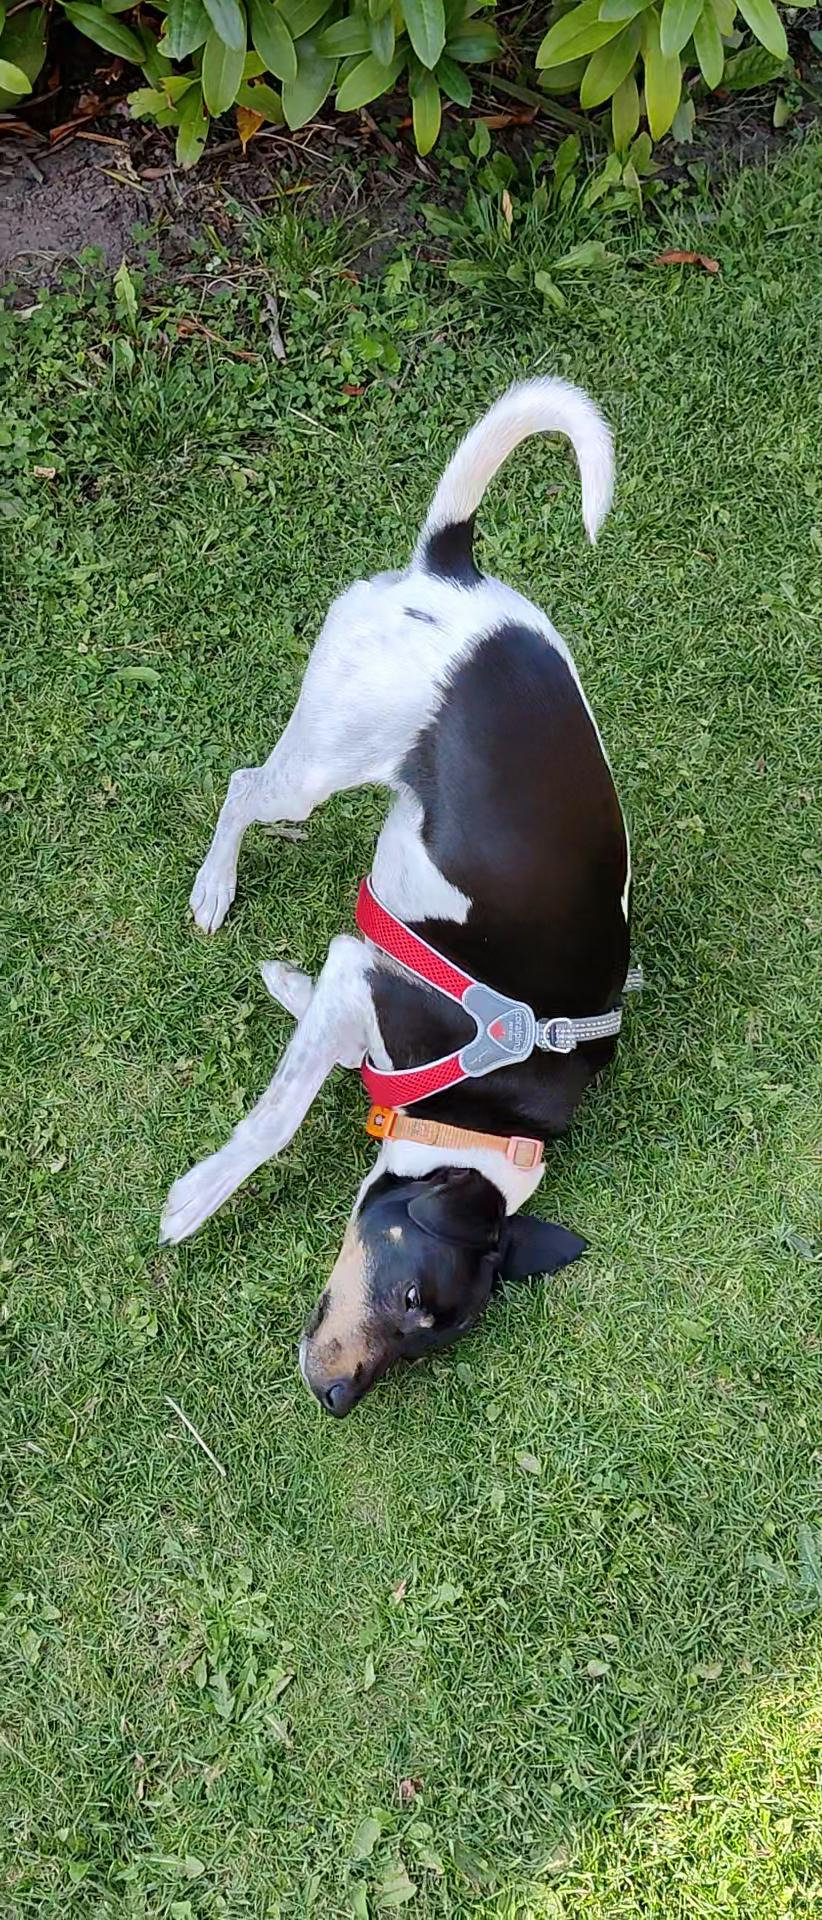Dog: (126, 351, 666, 1424)
